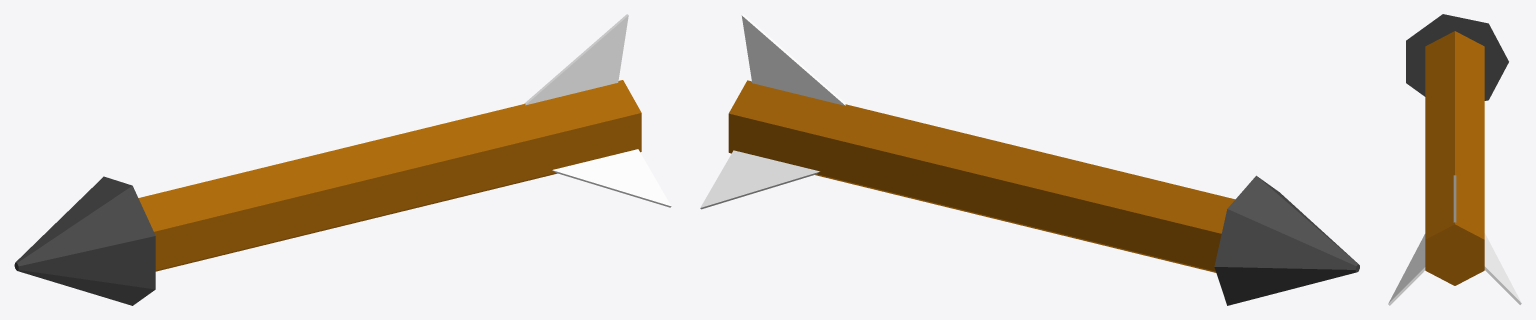
Rendered from Arrow_model.fbx.
3 views of the same model, side by side, from view 1: azimuth 30°, elevation 25°; view 2: azimuth 150°, elevation 25°; view 3: azimuth 270°, elevation 25° (orthographic). The views are drawn at different scales.
Parts seen in each view (by area): view 1: Cylinder, Cone, Cylinder.002; view 2: Cylinder, Cone, Cylinder.002; view 3: Cylinder, Cone, Cylinder.002.
Boxes of the visible parts, left/top/right/bottom form: Cylinder: left=138, top=80, right=641, bottom=271; Cone: left=14, top=176, right=155, bottom=305; Cylinder.002: left=524, top=14, right=671, bottom=207; Cylinder: left=728, top=80, right=1234, bottom=272; Cone: left=1214, top=175, right=1359, bottom=305; Cylinder.002: left=700, top=14, right=846, bottom=209; Cylinder: left=1425, top=31, right=1484, bottom=285; Cone: left=1406, top=14, right=1508, bottom=100; Cylinder.002: left=1388, top=175, right=1521, bottom=305.
Size of the model in its own units: 143 by 36.55 by 34.09.
